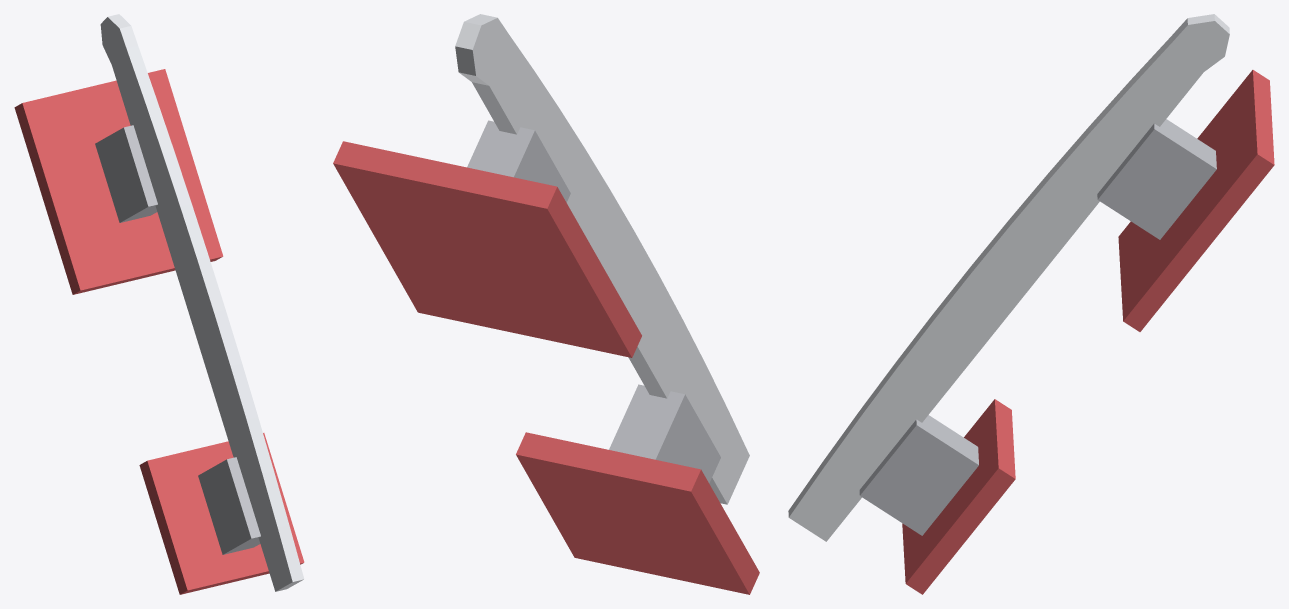
File: Skate_R.glb
3 views of the same model, side by side, from view 1: azimuth 30°, elevation 25°; view 2: azimuth 150°, elevation 25°; view 3: azimuth 270°, elevation 25° (orthographic). The views are drawn at different scales.
Parts seen in each view (by area): view 1: Skate_ToePlate, Skate_Blade, Skate_HeelPlate, Skate_ToePost, Skate_HeelPost; view 2: Skate_ToePlate, Skate_Blade, Skate_HeelPlate, Skate_HeelPost, Skate_ToePost; view 3: Skate_Blade, Skate_ToePlate, Skate_HeelPlate, Skate_HeelPost, Skate_ToePost.
Boxes of the visible parts, bbox=[...] form: Skate_ToePlate: bbox=[14, 69, 223, 294]; Skate_Blade: bbox=[100, 14, 304, 591]; Skate_HeelPlate: bbox=[139, 433, 304, 594]; Skate_ToePost: bbox=[95, 125, 157, 222]; Skate_HeelPost: bbox=[198, 457, 260, 554]; Skate_ToePlate: bbox=[333, 141, 641, 357]; Skate_Blade: bbox=[455, 14, 749, 504]; Skate_HeelPlate: bbox=[516, 432, 759, 594]; Skate_HeelPost: bbox=[609, 384, 720, 483]; Skate_ToePost: bbox=[467, 120, 570, 202]; Skate_Blade: bbox=[788, 14, 1229, 541]; Skate_ToePlate: bbox=[1118, 70, 1274, 331]; Skate_HeelPlate: bbox=[902, 399, 1015, 594]; Skate_HeelPost: bbox=[859, 415, 978, 535]; Skate_ToePost: bbox=[1097, 119, 1216, 239].
Size of the model in its own units: 0.1103 by 0.3429 by 0.2768.
